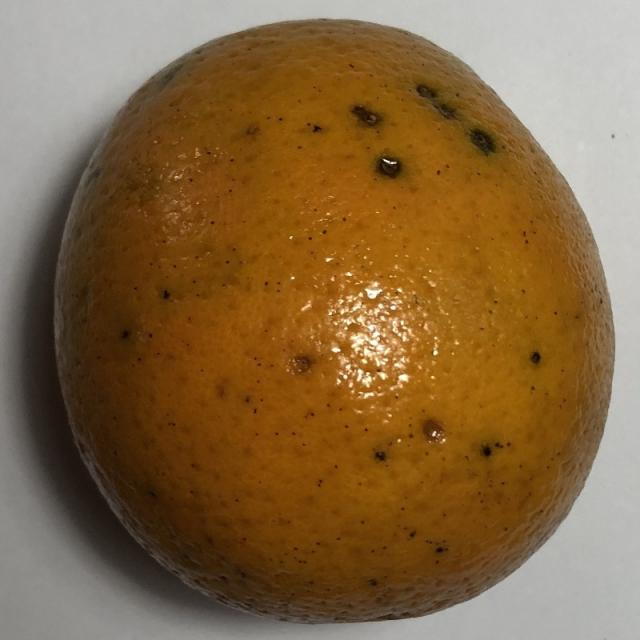blackspot: (28, 16, 622, 636)
